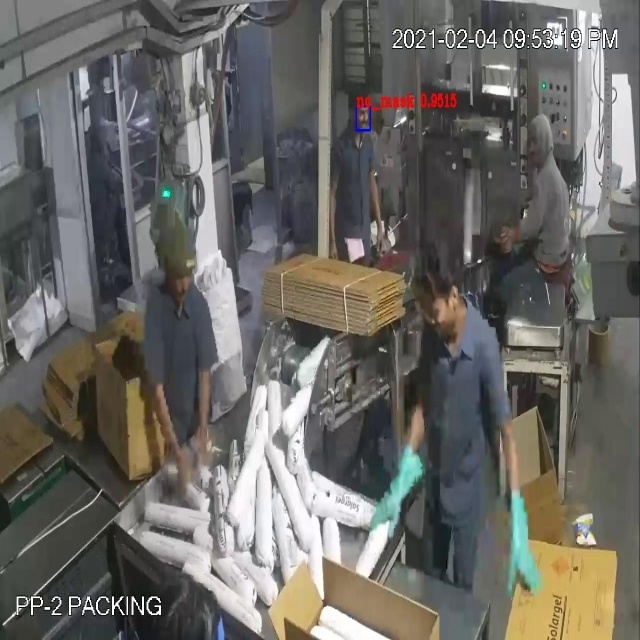Guantes: (363, 433, 424, 548), (497, 478, 545, 612)
Sin_guantes: (137, 354, 192, 497), (187, 349, 225, 482), (366, 162, 395, 265), (486, 212, 527, 268), (321, 171, 344, 260)
